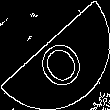O_NW: (24, 21, 86, 89)
